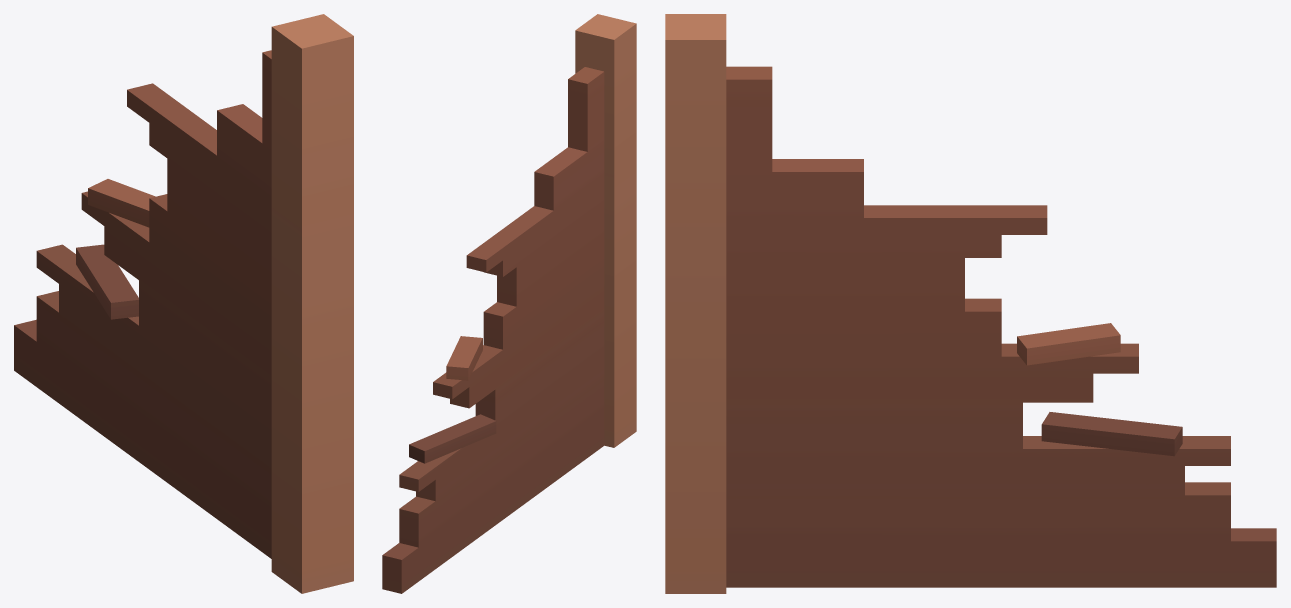
Rendered from wall-wood-broken.glb.
3 views of the same model, side by side, from view 1: azimuth 30°, elevation 25°; view 2: azimuth 150°, elevation 25°; view 3: azimuth 270°, elevation 25° (orthographic). The views are drawn at different scales.
Visible parts, largest first — view 1: wall-wood-broken; view 2: wall-wood-broken; view 3: wall-wood-broken.
Boxes of the visible parts, x1,y1,x2,y2 form: wall-wood-broken: [14, 14, 353, 593]; wall-wood-broken: [382, 14, 636, 593]; wall-wood-broken: [665, 14, 1276, 593].
Bounding box in the file's own units: 0.1129 × 1 × 1.
1 material, 1 textured.
